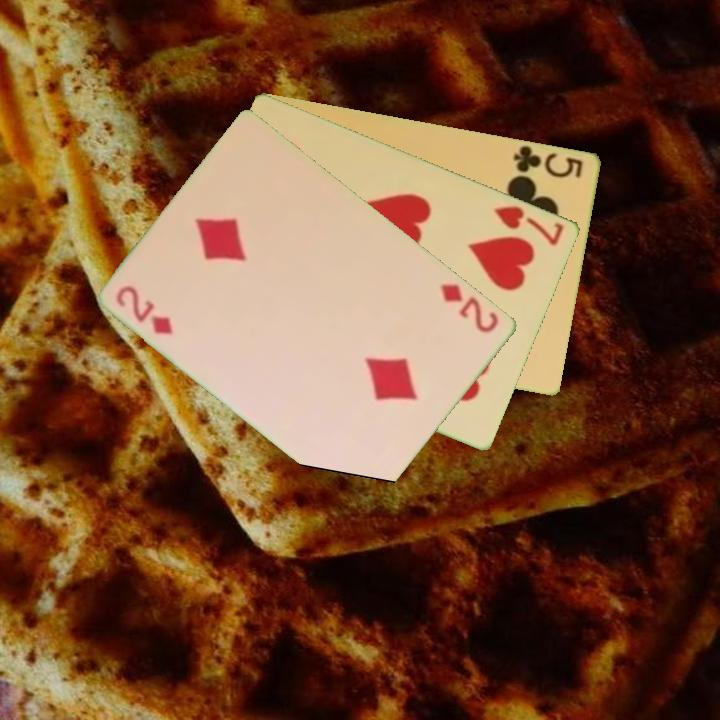2d: (112, 281, 177, 338), (437, 280, 503, 336)
5c: (510, 141, 587, 180)
7h: (491, 201, 568, 248)
